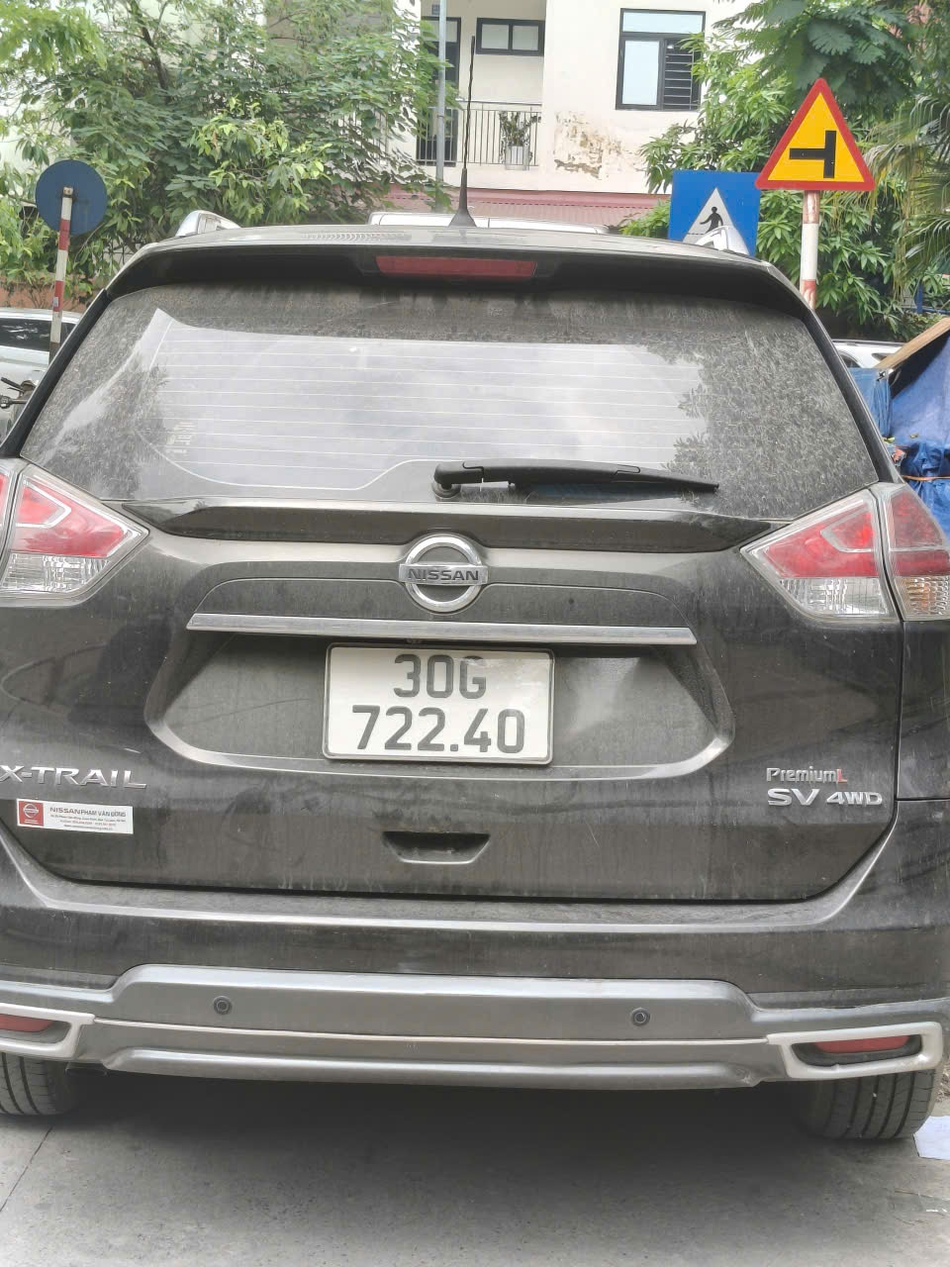plate: (461, 197, 640, 230)
